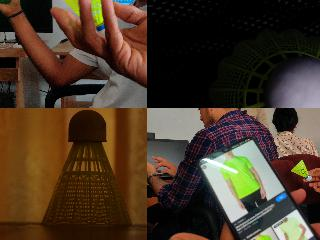shuttlecock: (41, 110, 130, 224), (209, 28, 319, 107), (56, 0, 107, 30), (290, 159, 312, 181)
